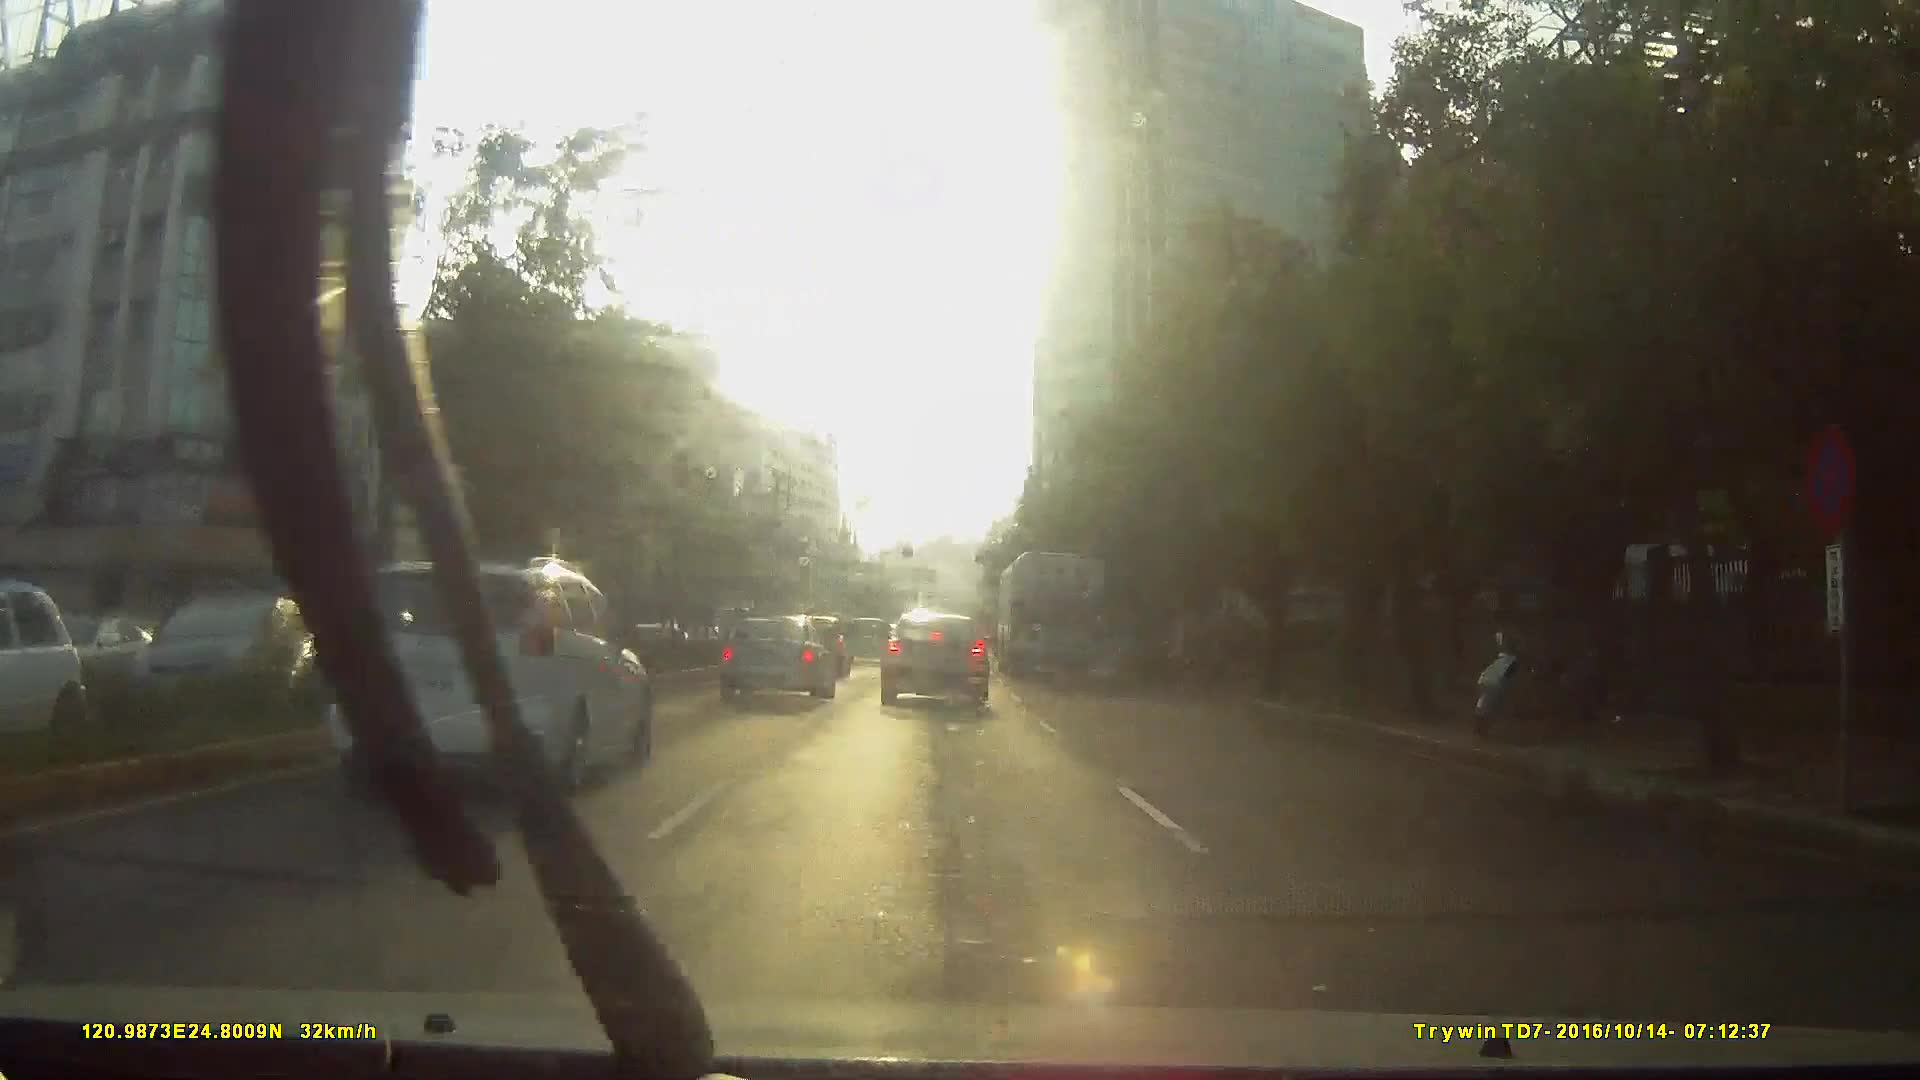vehicle: (251, 556, 684, 868), (319, 553, 651, 796), (136, 597, 331, 724), (1, 580, 102, 760), (1001, 550, 1112, 682), (877, 605, 992, 709), (717, 609, 837, 702), (844, 616, 891, 665)
